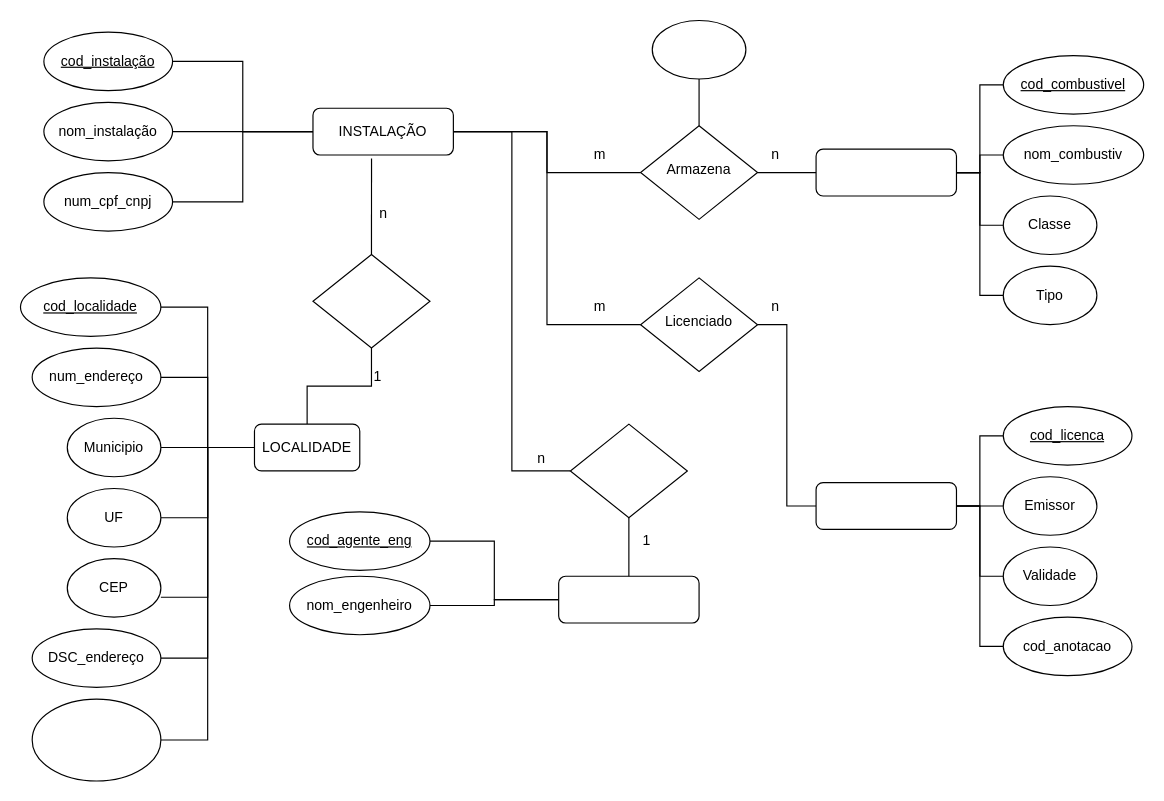
Some shapes in this 1164 by 801 pixel diagram are drawn without their labels. Each missing label, with the centre of its shape:
"COMBUSTIVEL" goes at (885,172).
"DSC_complemento" goes at (96,739).
"ENGENHEIRO" goes at (628,599).
"LICENCA" goes at (885,505).
"Local" goes at (371,300).
"Projetado" goes at (628,470).
"Tancagem" goes at (698,49).
